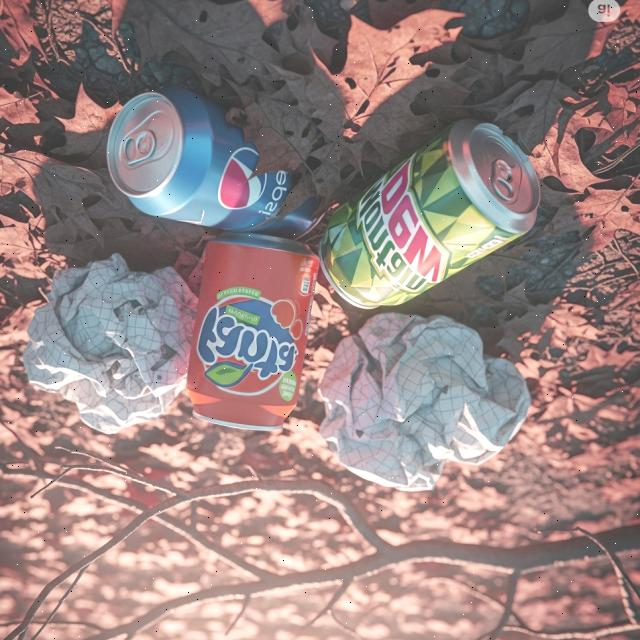aluminum: (315, 115, 543, 312), (106, 88, 326, 240), (184, 224, 322, 433)
paper: (319, 310, 530, 496), (24, 253, 206, 434)
